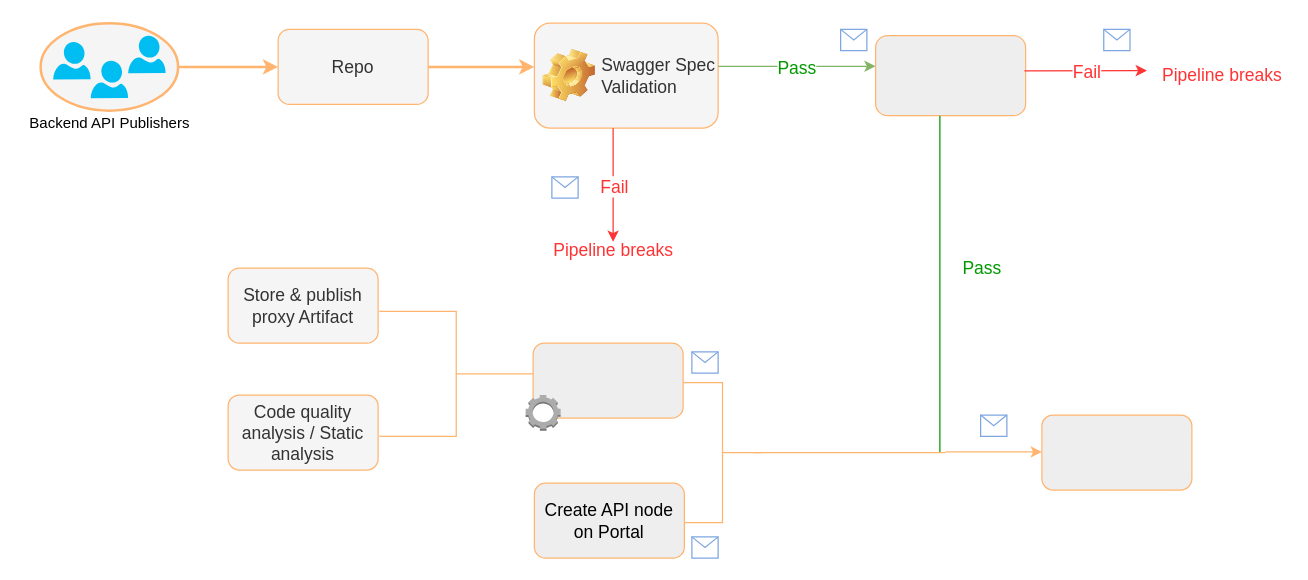
Image size: 1308x580. Some labels were removed from this diagram. Here are the shapes that lost their labels. From the top down, the box of each, then its label:
(874, 34, 1026, 116): UT runs (if UT file is present)
(532, 342, 683, 418): Convert spec to Proxy
(1041, 414, 1192, 490): Import to SH
